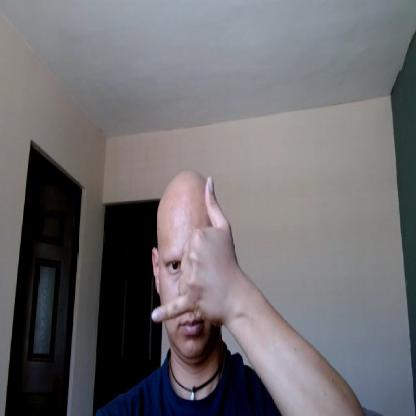Y: (151, 175, 236, 325)
